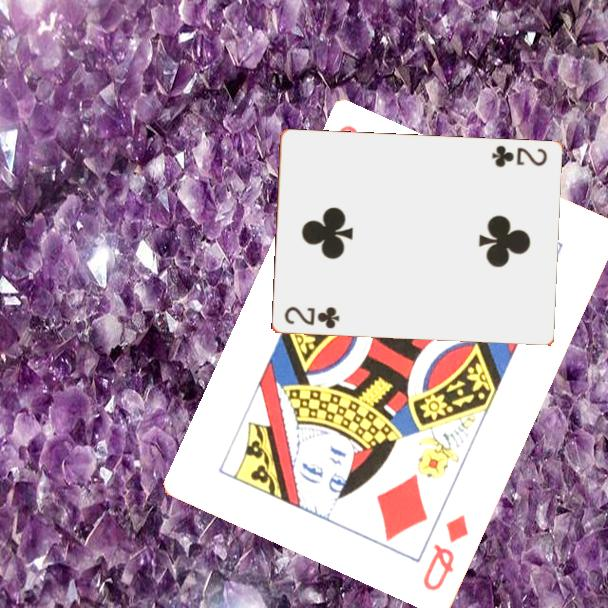c02: (280, 303, 342, 332), (488, 142, 549, 170)
d12: (419, 512, 472, 595)
